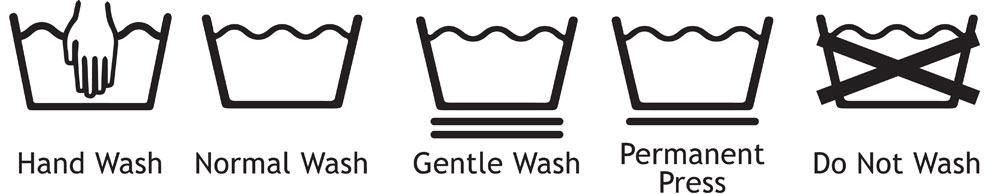do_not_wash: (803, 9, 990, 123)
